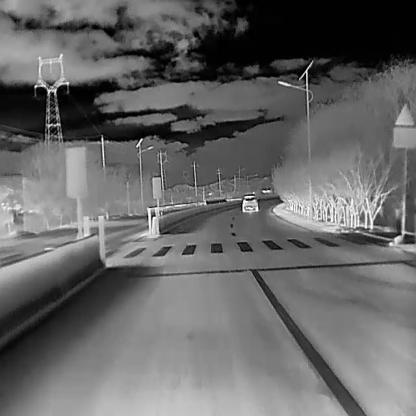car: (241, 193, 258, 211)
